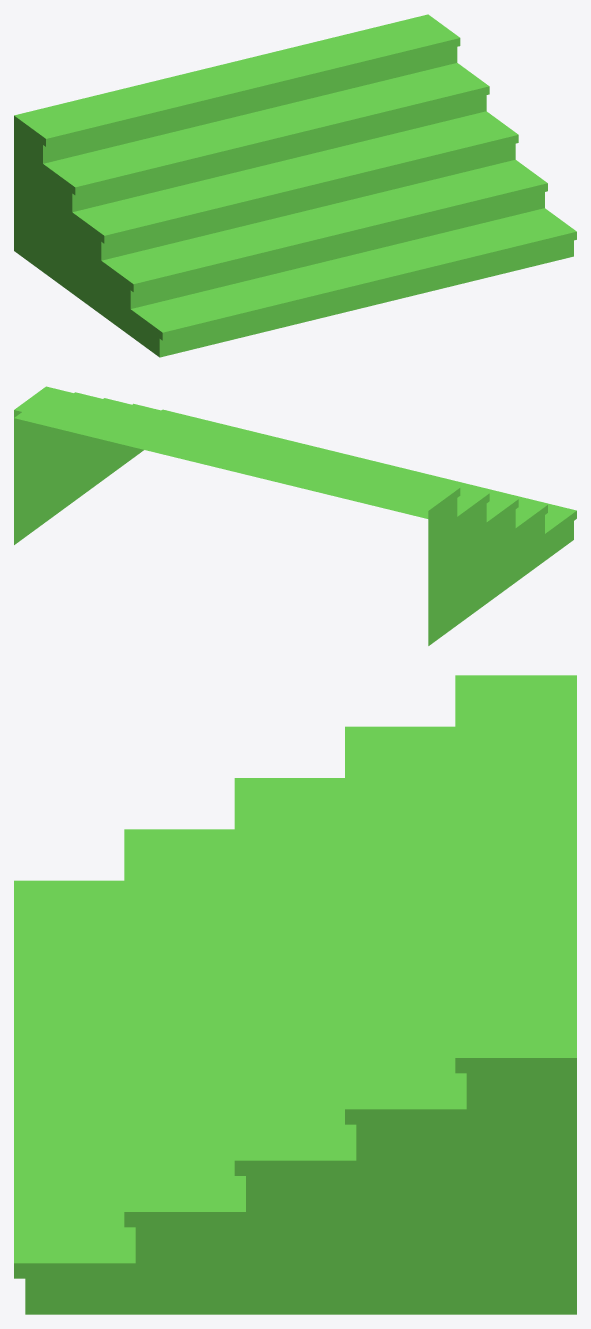
File: SM_ej_stairs001.fbx
3 renders of one model, top to bottom at view 1: azimuth 30°, elevation 25°; view 2: azimuth 150°, elevation 25°; view 3: azimuth 270°, elevation 25°, orthographic. The views are drawn at different scales.
Parts seen in each view (by area): view 1: up_low, down_low; view 2: down_low, up_low; view 3: up_low, down_low.
Boxes of the visible parts, <box> form: up_low: <box>14,14,576,340</box>; down_low: <box>14,47,573,357</box>; down_low: <box>14,412,573,645</box>; up_low: <box>14,386,576,541</box>; up_low: <box>14,675,576,1278</box>; down_low: <box>25,1073,576,1314</box>.
Size of the model in its own units: 320 by 100 by 199.
